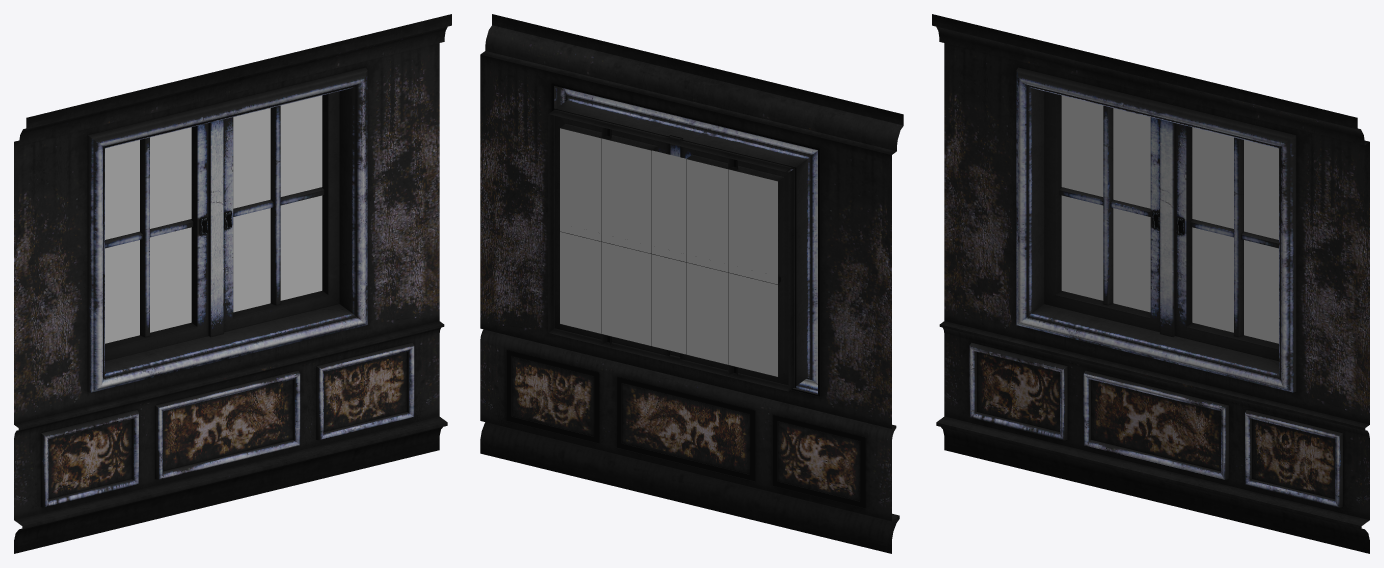
File: window_yellow_rotten.dae
The picture shows the model from 3 angles, left to right: view 1: azimuth 30°, elevation 25°; view 2: azimuth 150°, elevation 25°; view 3: azimuth 330°, elevation 25°; orthographic projection. The views are drawn at different scales.
Visible parts, largest first — view 1: mansionbase_wall_window1, mansionbase_wall_windowglass; view 2: mansionbase_wall_window1, mansionbase_wall_windowglass; view 3: mansionbase_wall_window1, mansionbase_wall_windowglass.
Boxes of the visible parts, x1,y1,x2,y2 form: mansionbase_wall_window1: (14,14,451,553); mansionbase_wall_windowglass: (105,95,322,343); mansionbase_wall_window1: (480,14,903,553); mansionbase_wall_windowglass: (560,128,777,376); mansionbase_wall_window1: (932,14,1369,553); mansionbase_wall_windowglass: (1061,95,1278,343).
Size of the model in its own units: 4 by 4 by 0.4944.
